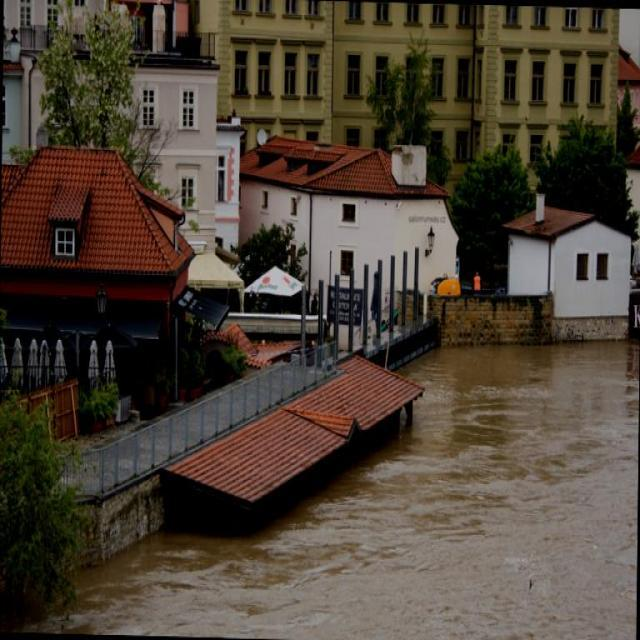flood: (93, 318, 639, 639)
